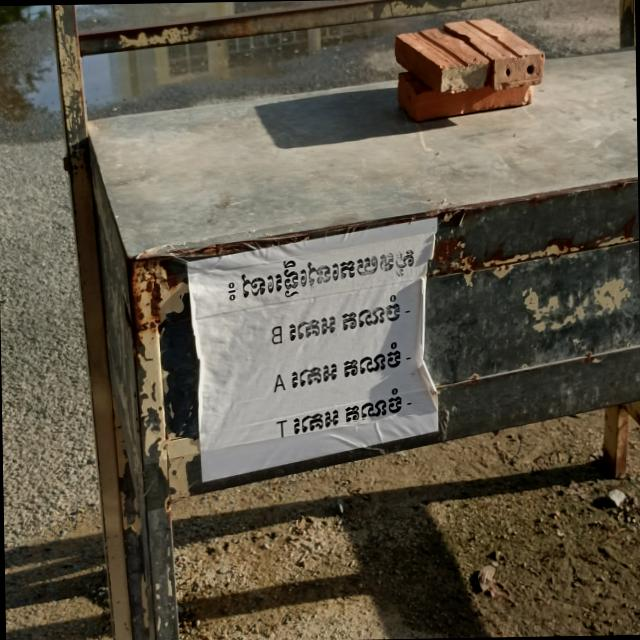1: (283, 289, 404, 351), (289, 382, 404, 443), (285, 337, 404, 393)
Yolov11kh: (235, 235, 417, 308)
